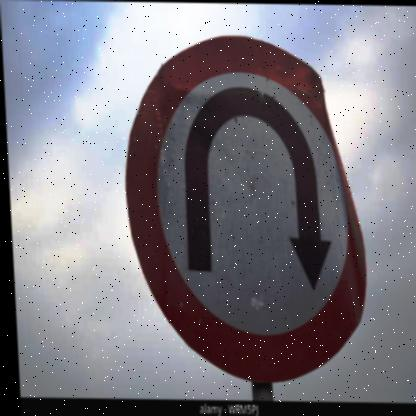U-turn: (120, 29, 374, 383)
